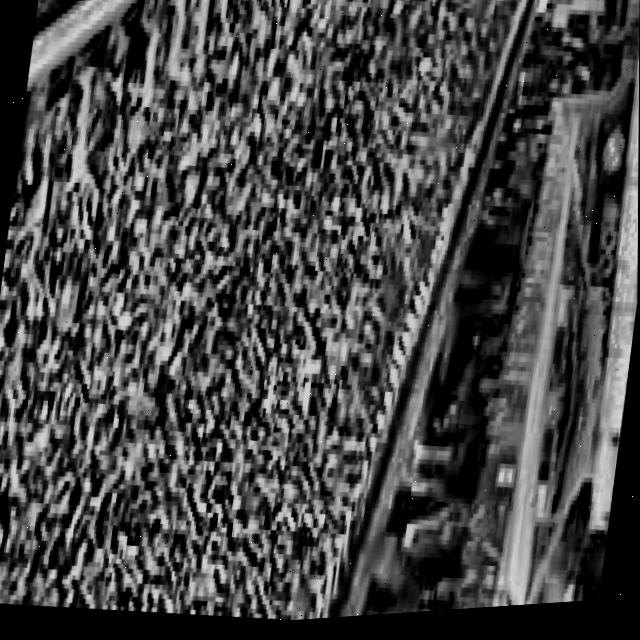Gerbong: (370, 101, 594, 620), (135, 546, 514, 633)
Lokomotif: (425, 0, 640, 571)
